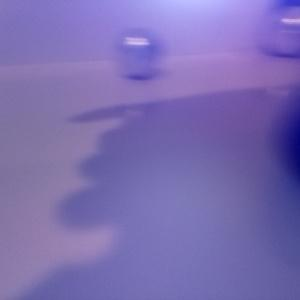alive_ball: (112, 30, 159, 79), (262, 7, 300, 55)
dead_ball: (274, 85, 300, 181)
